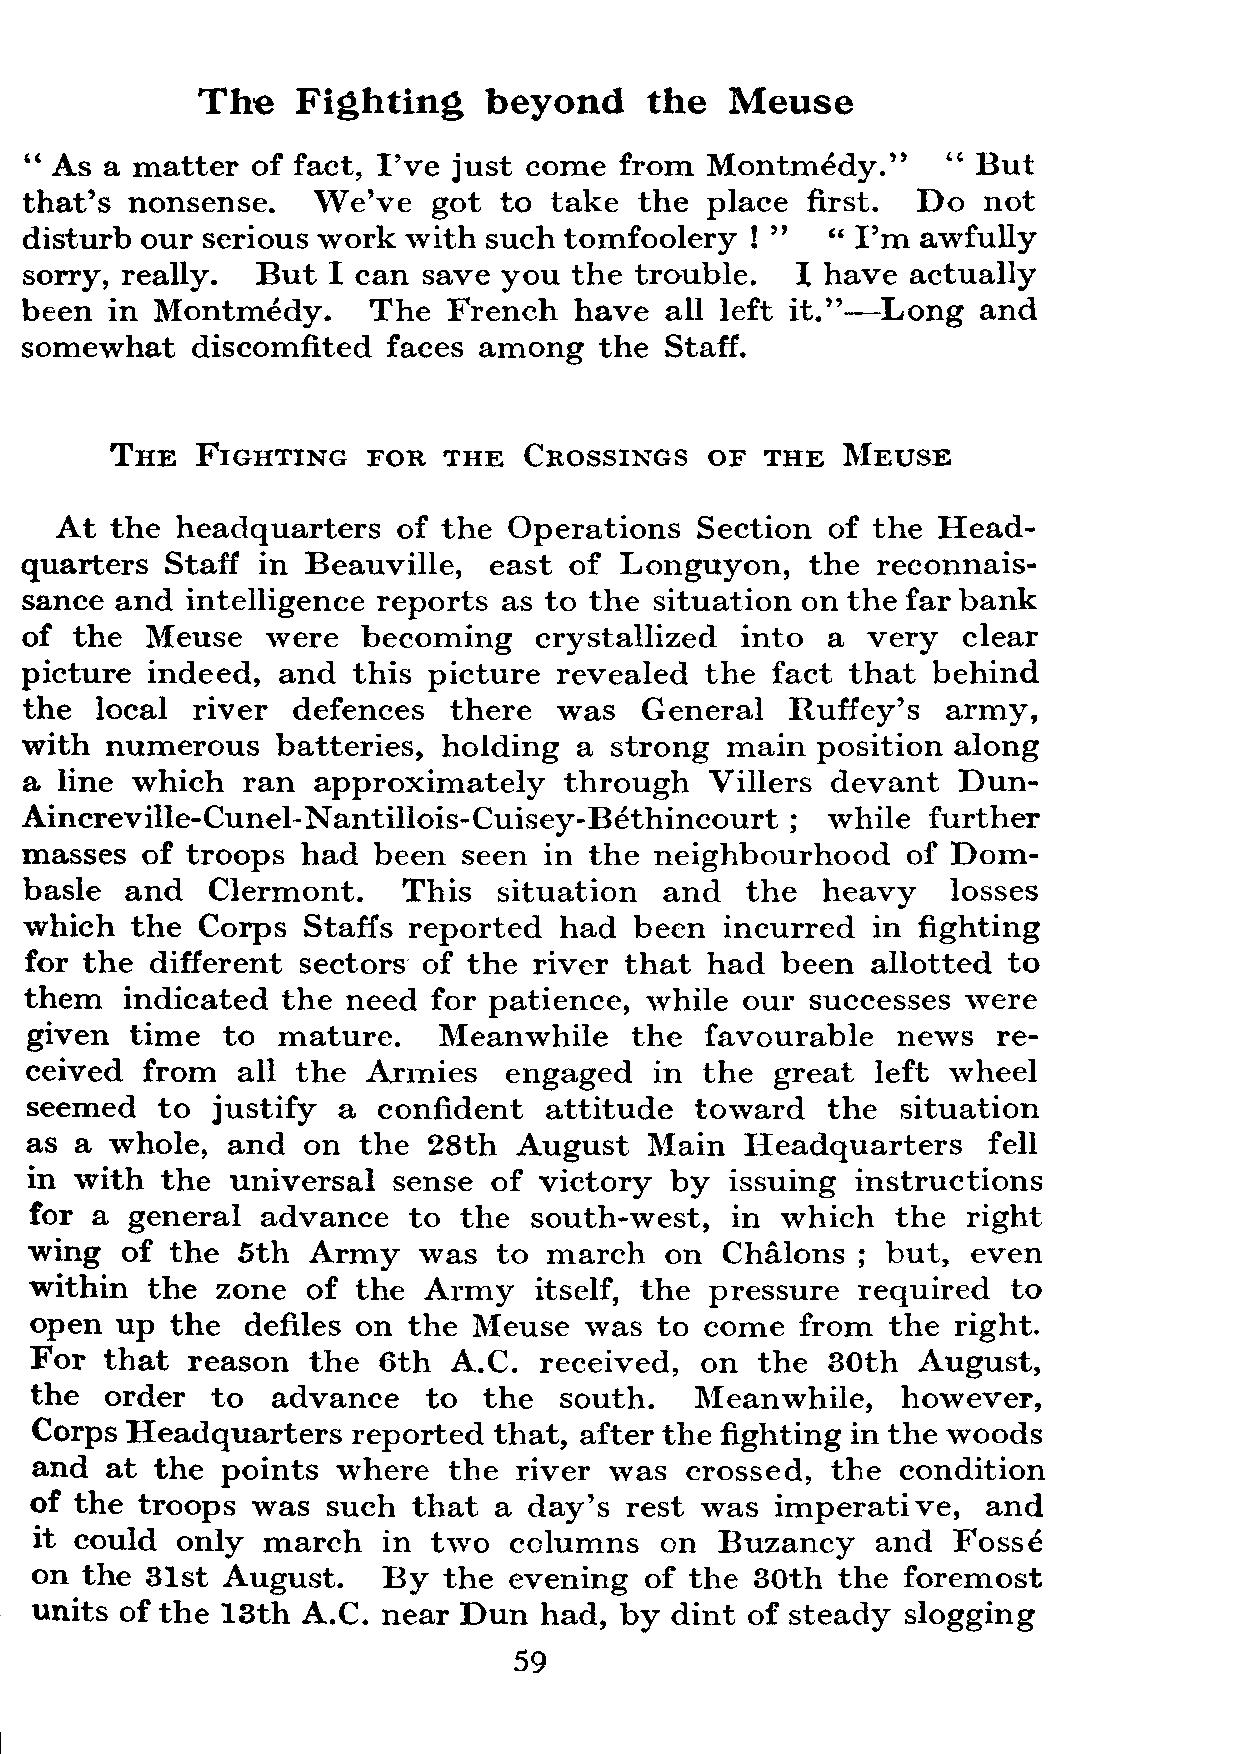chapter: (107, 432, 951, 475), (191, 81, 854, 123)
content: (17, 509, 1045, 1629), (17, 148, 1035, 370)
content_pagenumber: (509, 1643, 552, 1675)
